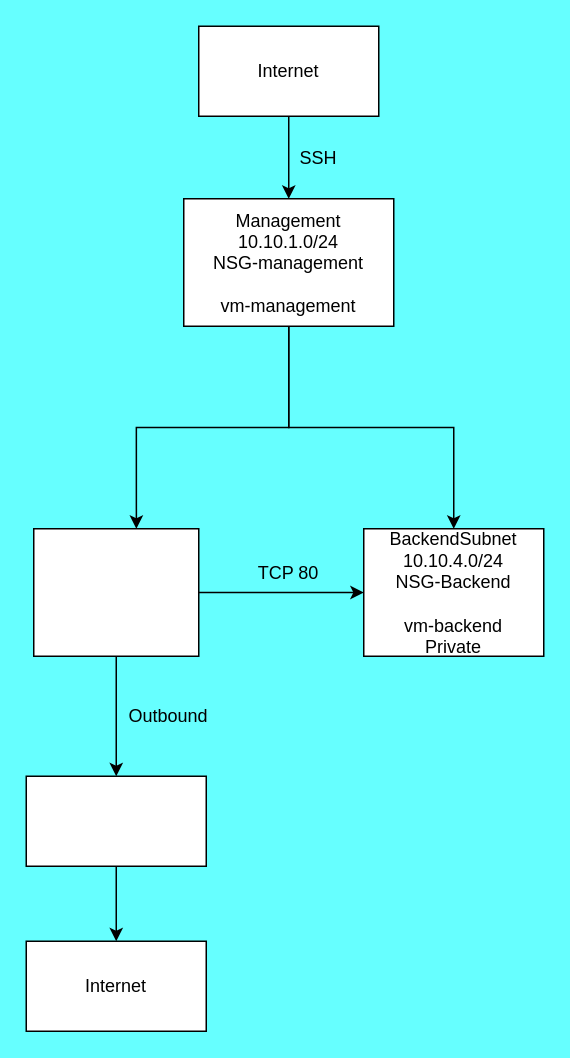
Some shapes in this 570 by 1058 pixel diagram are drawn without their labels. Here are the shapes that lost their labels. From the top down, the box of each, then its label:
(32, 527, 199, 656): WebSubnet 10.10.3.0/24 NSG-WebServer vm-webServer Apache: 80
(25, 775, 206, 866): NAT Gateway
